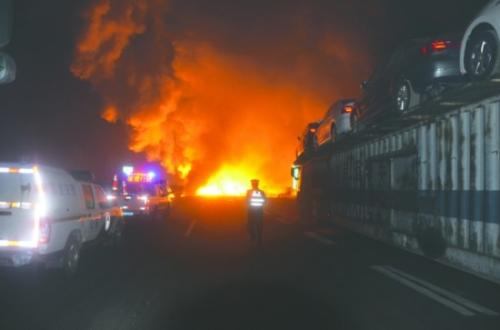fire: (157, 66, 312, 211)
smoke: (9, 14, 133, 161)
